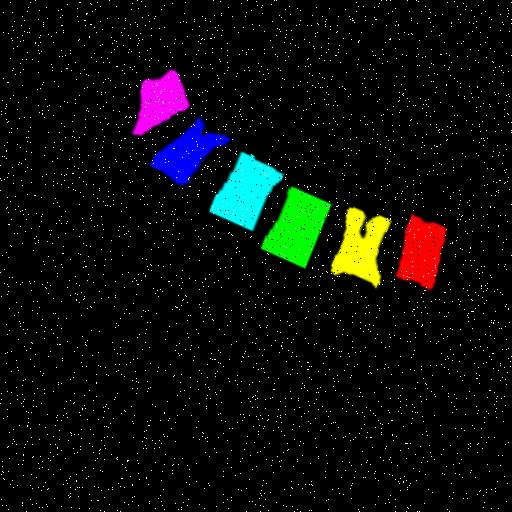L1: (398, 206, 447, 280)
L2: (333, 200, 392, 280)
L3: (262, 180, 332, 262)
L4: (210, 146, 284, 225)
L5: (151, 114, 230, 180)
S1: (132, 65, 188, 130)
